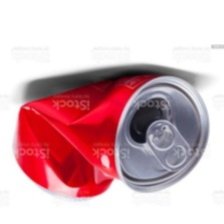can: (6, 67, 214, 204)
